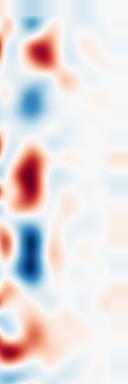filament: (6, 137, 55, 222), (20, 24, 65, 83)
